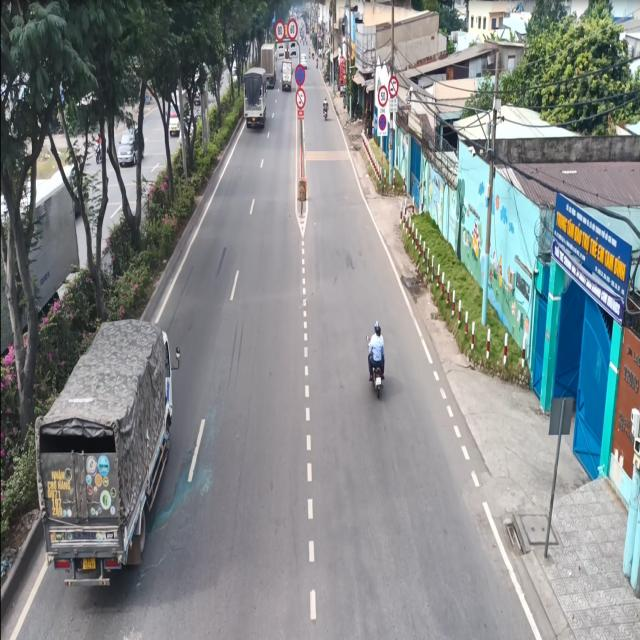motor: (362, 320, 393, 405)
truck: (30, 314, 187, 600), (243, 66, 269, 134)
